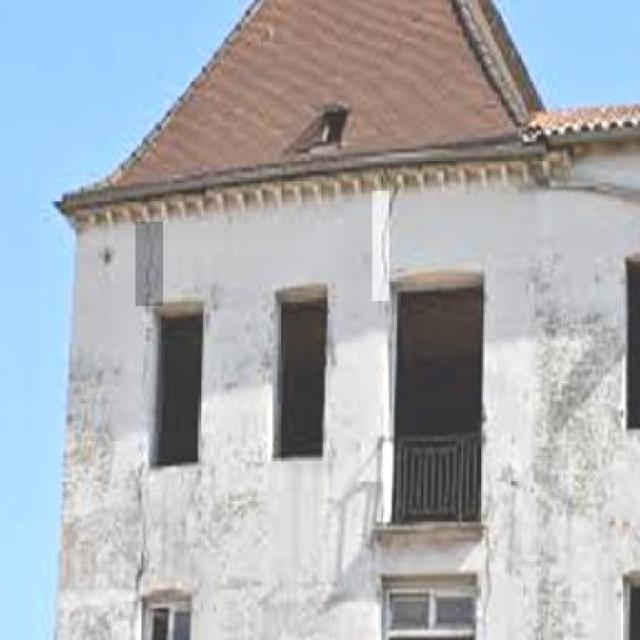Crack: (369, 188, 406, 297), (122, 467, 152, 600), (140, 226, 163, 308)
